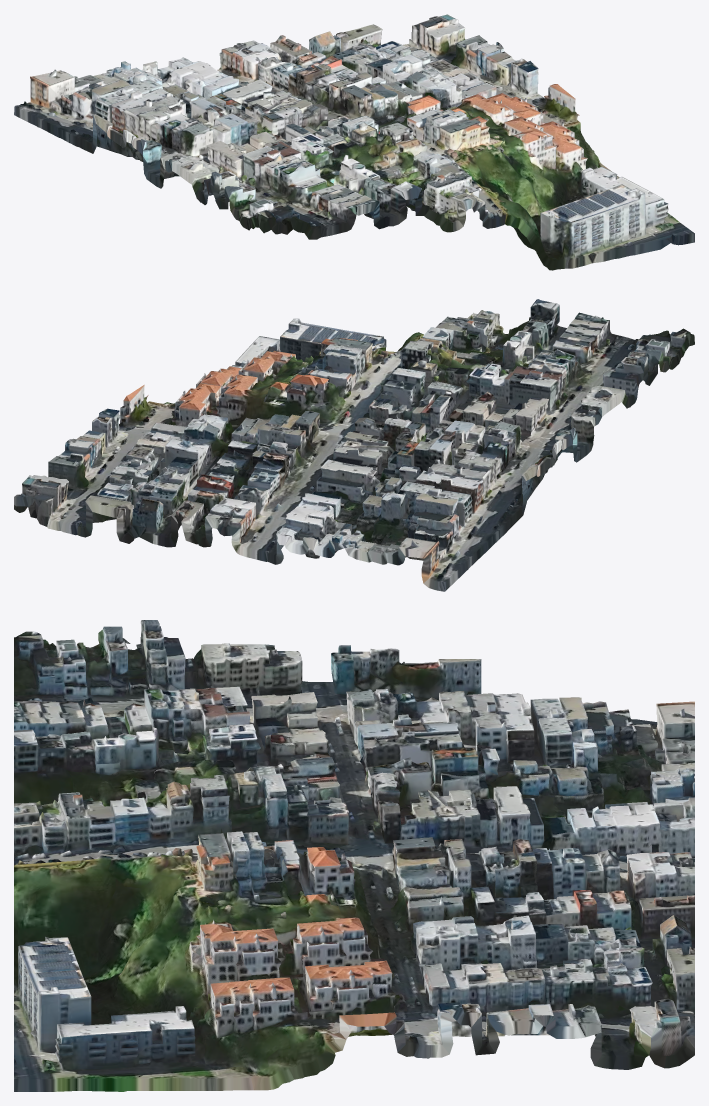
The model's file is z17-20968-50648-h0-yup-uvflip-v3-world.glb.
3 views of the same model, one above another, from view 1: azimuth 30°, elevation 25°; view 2: azimuth 150°, elevation 25°; view 3: azimuth 270°, elevation 25° (orthographic). The views are drawn at different scales.
Size of the model in its own units: 242 by 72.96 by 243.
Materials: 1 (1 with a texture image).
